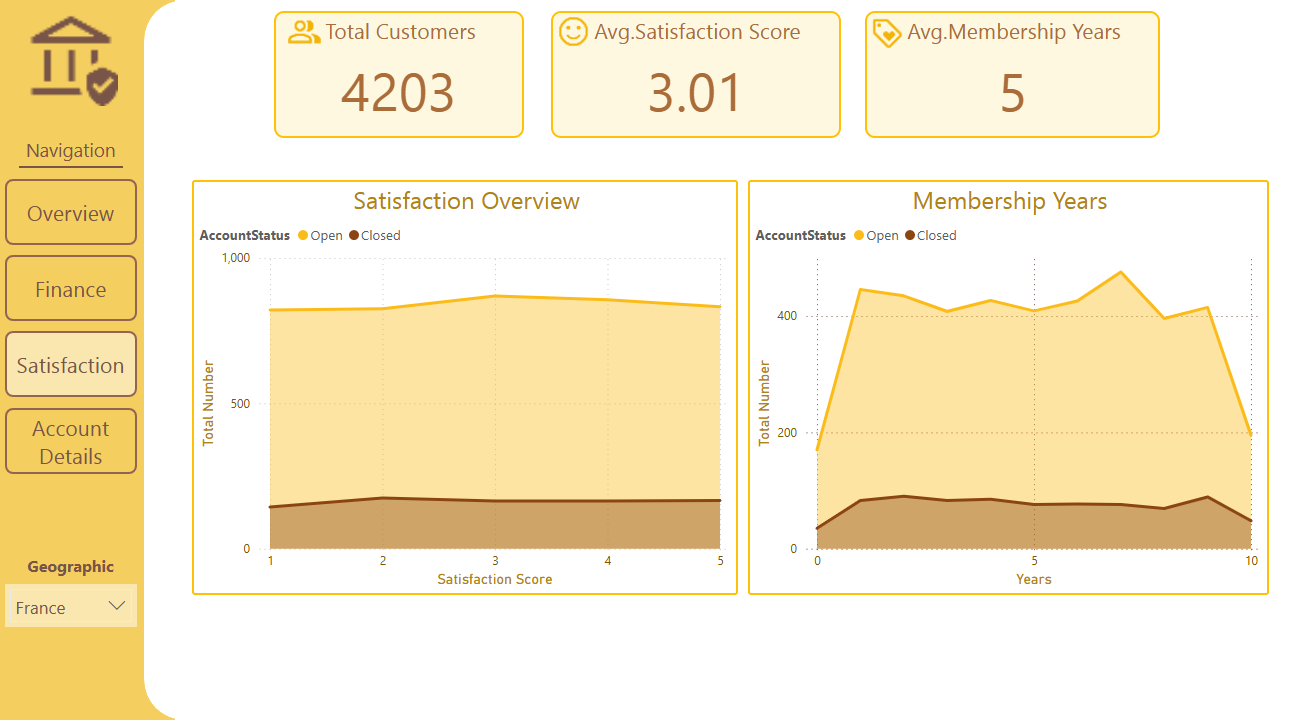

What the dashboard file says about the page in this screenshot:
{"tool":"powerbi","page":{"name":"Satisfication","canvas":[1280,720],"ordinal":2},"visuals":[{"type":"group","id":"g1","title":"Group 1","box":[0,0,306,720],"z":500},{"type":"image","box":[0,0,187,720],"z":500,"group":"g1"},{"type":"shape","box":[160,0,146,720],"z":1000,"group":"g1"},{"type":"clusteredColumnChart","title":"Satisfaction Overview","fields":{"Category":["Customer-Churn-Records.Satisfaction Score"],"Y":["CountNonNull(Customer-Churn-Records.Satisfaction Score)"],"Series":["Customer-Churn-Records.AccountStatus"]},"box":[192,180,546,415],"z":1000},{"type":"image","box":[33,7,104,104],"z":1500,"group":"g1"},{"type":"actionButton","title":"button1","box":[17,255,132,66],"z":1750,"group":"g1"},{"type":"actionButton","title":"button1","box":[17,179,132,66],"z":1875,"group":"g1"},{"type":"actionButton","title":"button1","box":[17,331,132,66],"z":1937,"group":"g1"},{"type":"card","title":"Total Customers","fields":{"Values":["Customer-Churn-Records.TotalCustomers"]},"box":[274,11,250,127],"z":2000},{"type":"textbox","box":[17,540,131,31],"z":2437,"group":"g1"},{"type":"textbox","box":[19,132,132,38],"z":2687,"group":"g1"},{"type":"slicer","title":"geographic_slicer","fields":{"Values":["Customer-Churn-Records.Geography"]},"box":[17.2,571,131.3,109.2],"z":2937,"group":"g1"},{"type":"card","title":"Avg.Satisfaction Score","fields":{"Values":["Avg(Customer-Churn-Records.Satisfaction Score)"]},"box":[551,11,290,127],"z":3000},{"type":"shape","box":[33,522,104,8],"z":3062,"group":"g1"},{"type":"textbox","box":[17.2,496.3,131.3,44.1],"z":3124,"group":"g1"},{"type":"actionButton","title":"button1","box":[17,408,132,66],"z":3187,"group":"g1"},{"type":"shape","box":[33,164,104,6],"z":3437,"group":"g1"},{"type":"clusteredColumnChart","title":"Membership Years","fields":{"Category":["Customer-Churn-Records.MembershipYears"],"Y":["CountNonNull(Customer-Churn-Records.MembershipYears)"],"Series":["Customer-Churn-Records.AccountStatus"]},"box":[748,180,521,415],"z":4000},{"type":"card","title":"Avg.Membership Years","fields":{"Values":["Avg(Customer-Churn-Records.MembershipYears)"]},"box":[865,11,295,127],"z":5000}]}

Visuals, with their boxes in screenshot pixels (x1, y1, x2, y2), scaled from the page's 1280x720 canvas onto the 1300x720 screenshot:
"Group 1" group: [0, 0, 311, 719]
image: [0, 0, 190, 719]
shape: [162, 0, 311, 719]
"Satisfaction Overview" clusteredColumnChart: [195, 180, 750, 595]
image: [34, 7, 139, 111]
"button1" actionButton: [17, 255, 151, 321]
"button1" actionButton: [17, 179, 151, 245]
"button1" actionButton: [17, 331, 151, 397]
"Total Customers" card: [278, 11, 532, 138]
textbox: [17, 540, 150, 571]
textbox: [19, 132, 153, 170]
"geographic_slicer" slicer: [17, 571, 151, 680]
"Avg.Satisfaction Score" card: [560, 11, 854, 138]
shape: [34, 522, 139, 530]
textbox: [17, 496, 151, 540]
"button1" actionButton: [17, 408, 151, 474]
shape: [34, 164, 139, 170]
"Membership Years" clusteredColumnChart: [760, 180, 1289, 595]
"Avg.Membership Years" card: [879, 11, 1178, 138]
